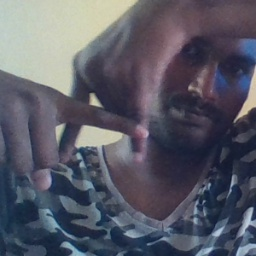H: (37, 50, 166, 171)
